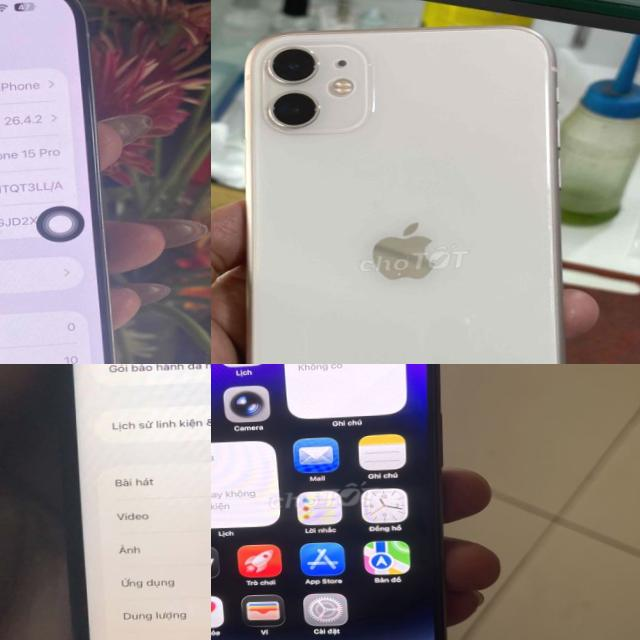gen_11: (226, 16, 581, 364), (39, 364, 211, 640)
gen_14: (211, 364, 463, 640)
gen_15: (0, 0, 135, 364)
